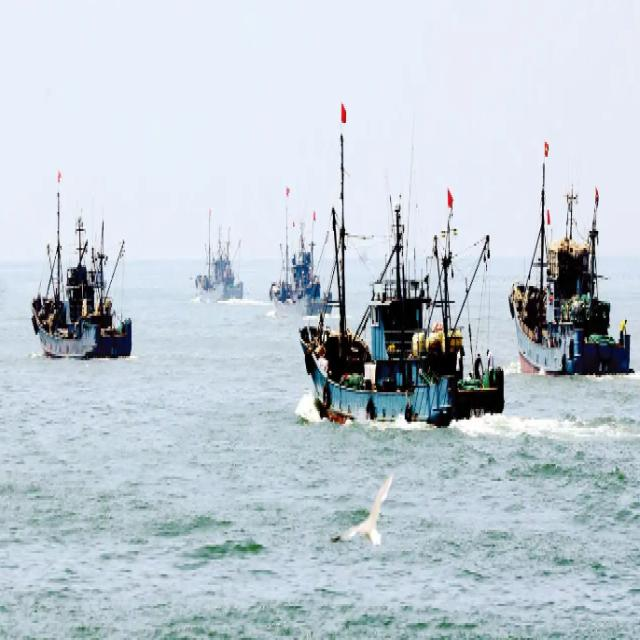fishing boat: (300, 140, 503, 422), (510, 131, 630, 383), (32, 189, 136, 356), (271, 179, 335, 308), (197, 204, 246, 296)
